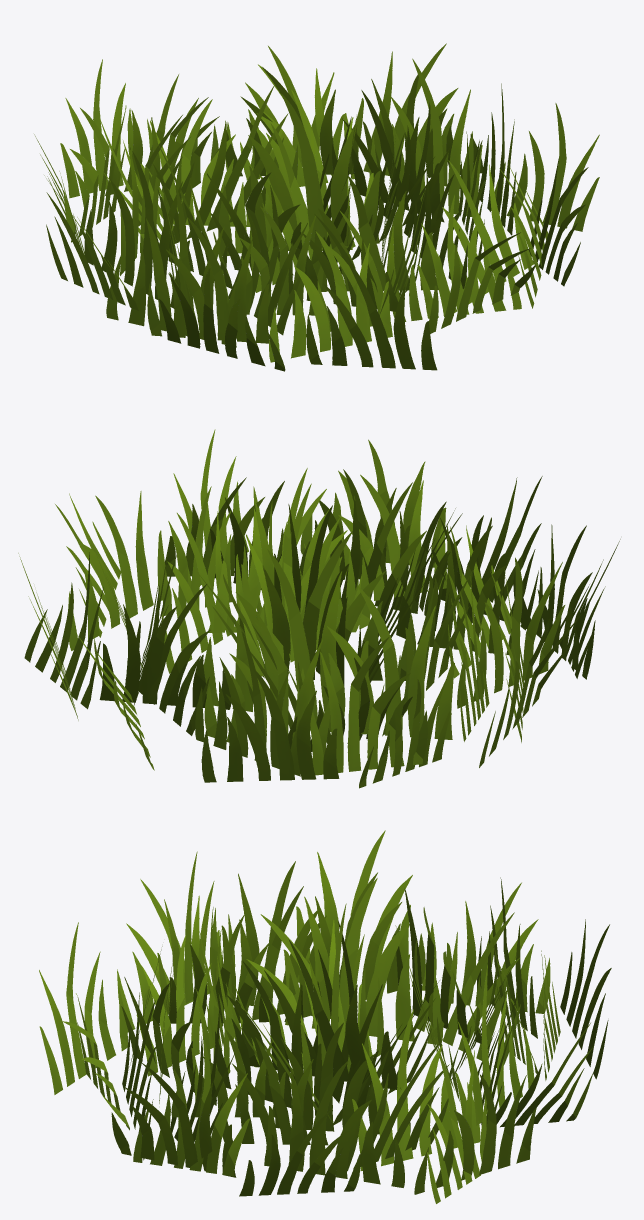
File: AR_grass_002.FBX
The picture shows the model from 3 angles, top to bottom: view 1: azimuth 30°, elevation 25°; view 2: azimuth 150°, elevation 25°; view 3: azimuth 270°, elevation 25°; orthographic projection. The views are drawn at different scales.
Visible parts, largest first — view 1: AR_grass_002; view 2: AR_grass_002; view 3: AR_grass_002.
Boxes of the visible parts, <box> form: AR_grass_002: <box>34,43,599,371</box>; AR_grass_002: <box>18,429,620,788</box>; AR_grass_002: <box>39,830,611,1203</box>.
Bounding box in the file's own units: 109 × 37.74 × 104.
